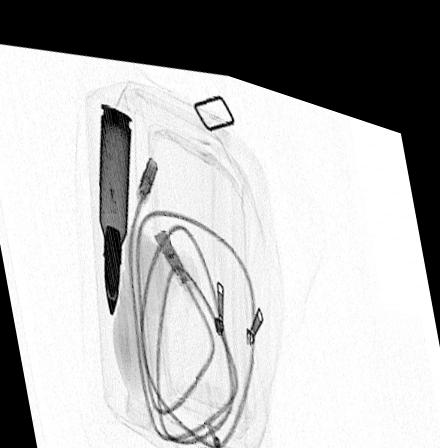Bullet: (99, 94, 132, 309)
